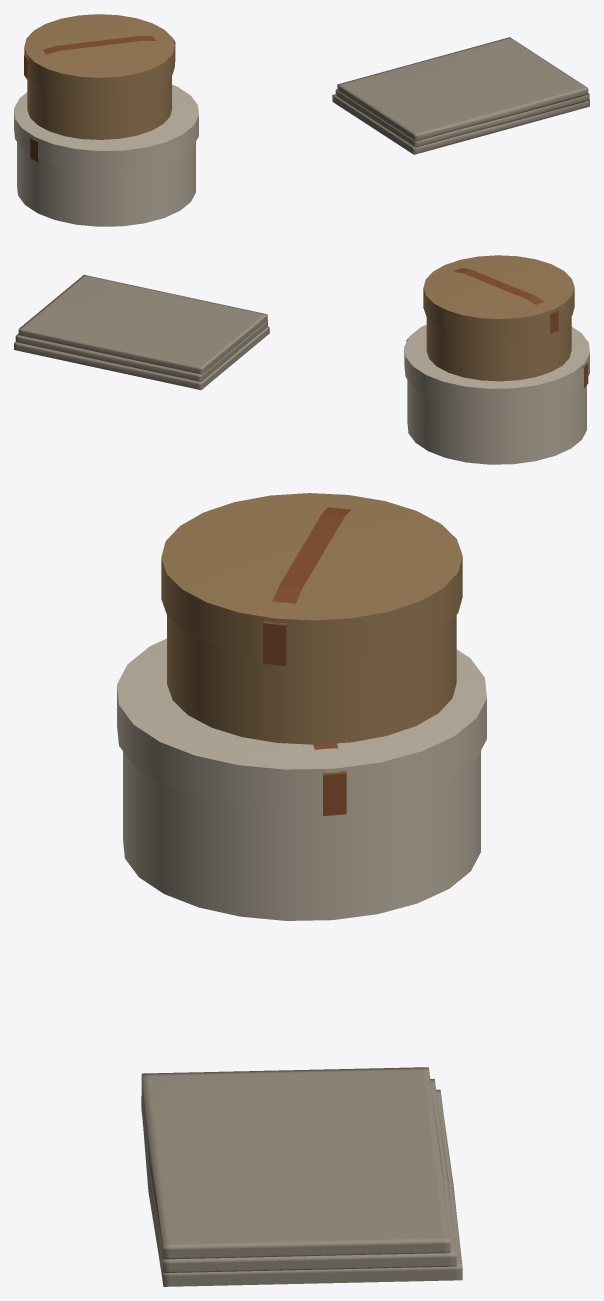
Rendered from decor_a_soft_bench_hatboxes.gltf.
3 views of the same model, one above another, from view 1: azimuth 30°, elevation 25°; view 2: azimuth 150°, elevation 25°; view 3: azimuth 270°, elevation 25° (orthographic). The views are drawn at different scales.
Parts seen in each view (by area): view 1: DecorASoftBenchHatboxes_coatoat_NoCollide, DecorASoftBenchHatboxes_oat_NoCollide, DecorASoftBenchHatboxes_coatcamel_NoCollide, DecorASoftBenchHatboxes_leather_NoCollide; view 2: DecorASoftBenchHatboxes_coatoat_NoCollide, DecorASoftBenchHatboxes_oat_NoCollide, DecorASoftBenchHatboxes_coatcamel_NoCollide, DecorASoftBenchHatboxes_leather_NoCollide; view 3: DecorASoftBenchHatboxes_oat_NoCollide, DecorASoftBenchHatboxes_coatoat_NoCollide, DecorASoftBenchHatboxes_coatcamel_NoCollide, DecorASoftBenchHatboxes_leather_NoCollide.
Part boxes in pixels (<box>): DecorASoftBenchHatboxes_coatoat_NoCollide: <box>332,37,589,154</box>; DecorASoftBenchHatboxes_oat_NoCollide: <box>14,84,198,226</box>; DecorASoftBenchHatboxes_coatcamel_NoCollide: <box>24,14,174,139</box>; DecorASoftBenchHatboxes_leather_NoCollide: <box>24,36,175,161</box>; DecorASoftBenchHatboxes_coatoat_NoCollide: <box>14,275,269,390</box>; DecorASoftBenchHatboxes_oat_NoCollide: <box>404,324,589,464</box>; DecorASoftBenchHatboxes_coatcamel_NoCollide: <box>423,255,574,381</box>; DecorASoftBenchHatboxes_leather_NoCollide: <box>406,268,588,387</box>; DecorASoftBenchHatboxes_oat_NoCollide: <box>117,638,486,920</box>; DecorASoftBenchHatboxes_coatoat_NoCollide: <box>141,1067,462,1286</box>; DecorASoftBenchHatboxes_coatcamel_NoCollide: <box>161,493,462,744</box>; DecorASoftBenchHatboxes_leather_NoCollide: <box>263,507,350,815</box>.
Size of the model in its own units: 1.23 by 0.324 by 0.3706.
